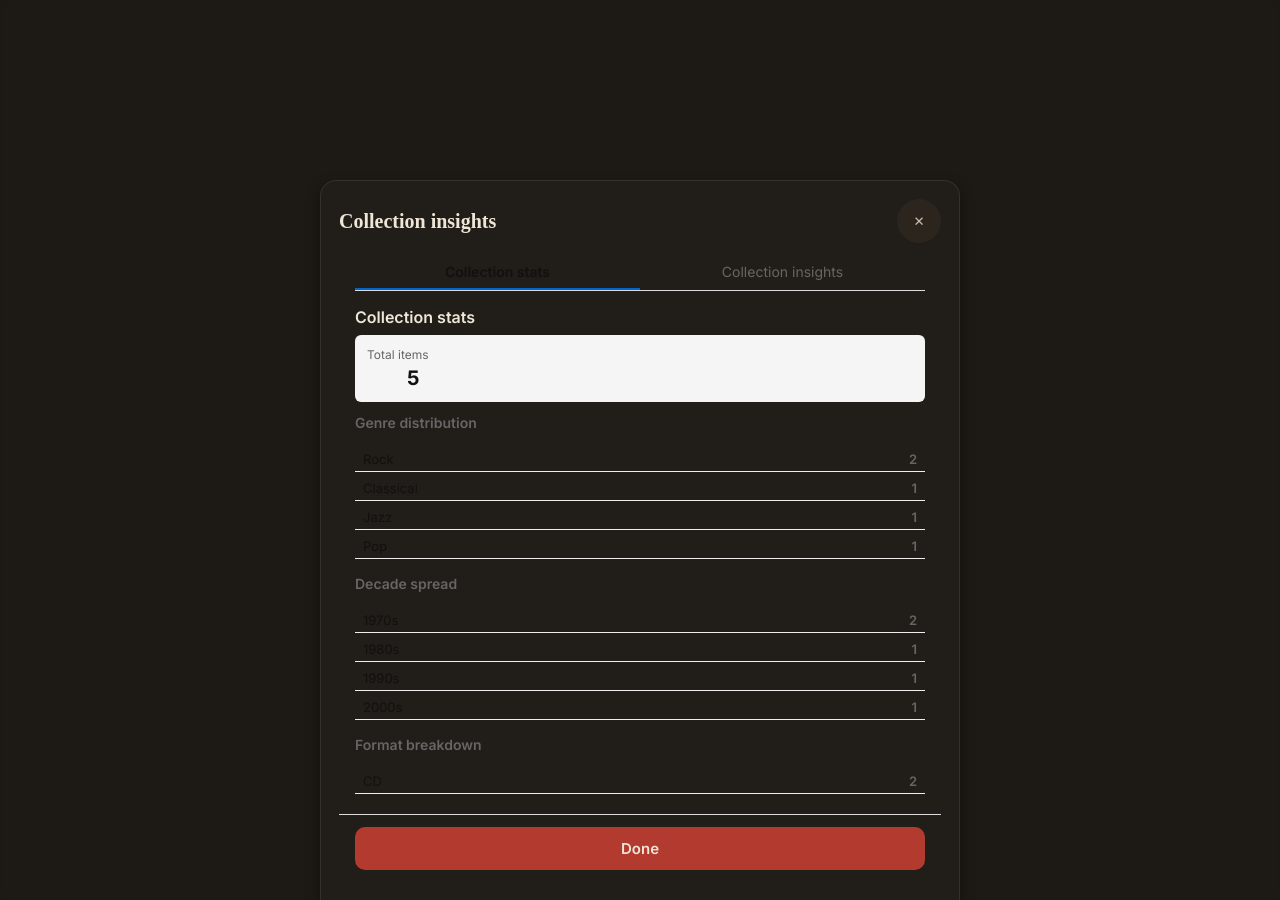
Test: InsightsDashboard — AI Insights tab › shows error state and retry button on failure
The image size is (1280, 900).
Click the tab "Collection insights" at x=782, y=272, box [640,255,925,290]
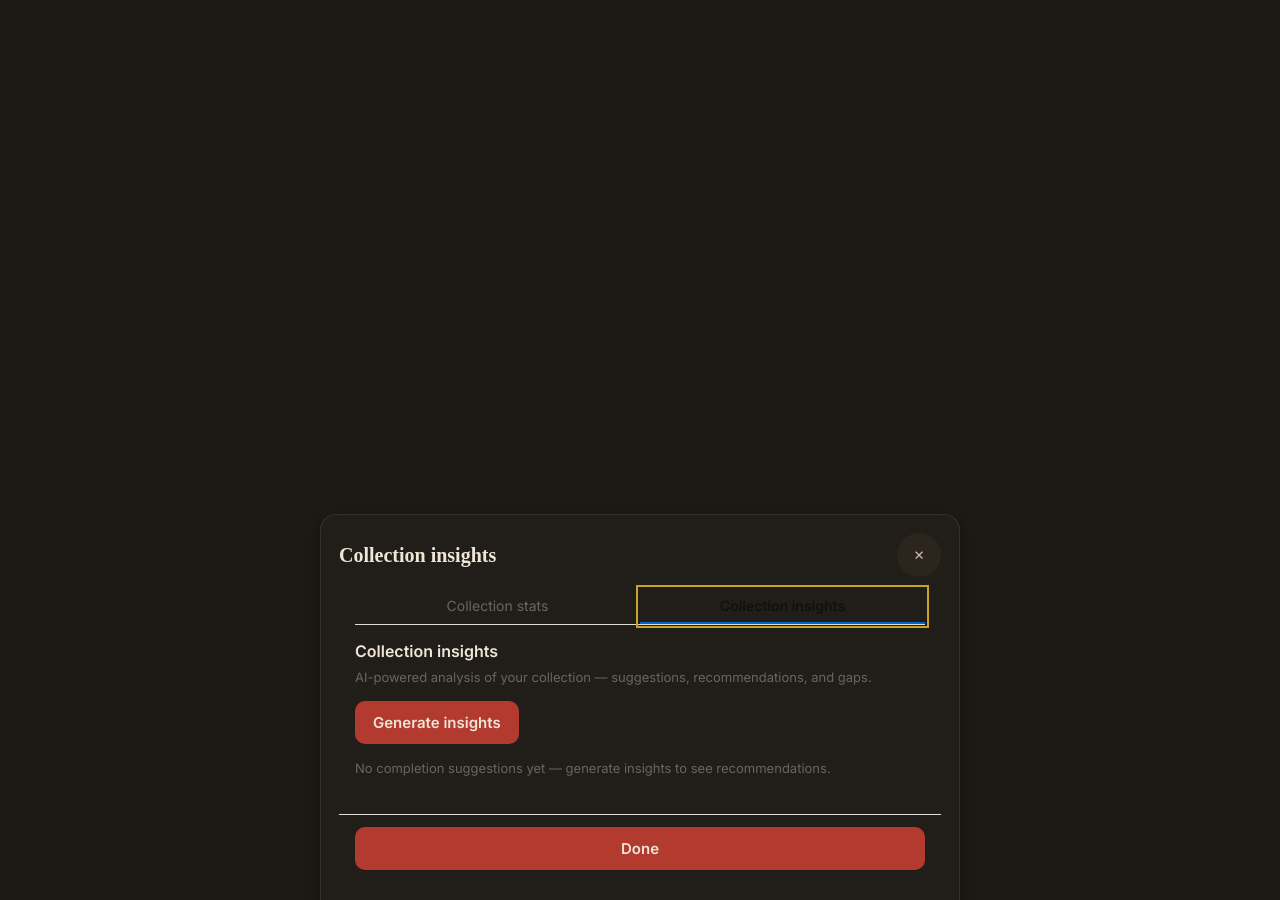
Click the button "Generate insights" at x=437, y=722, box [355,701,519,744]
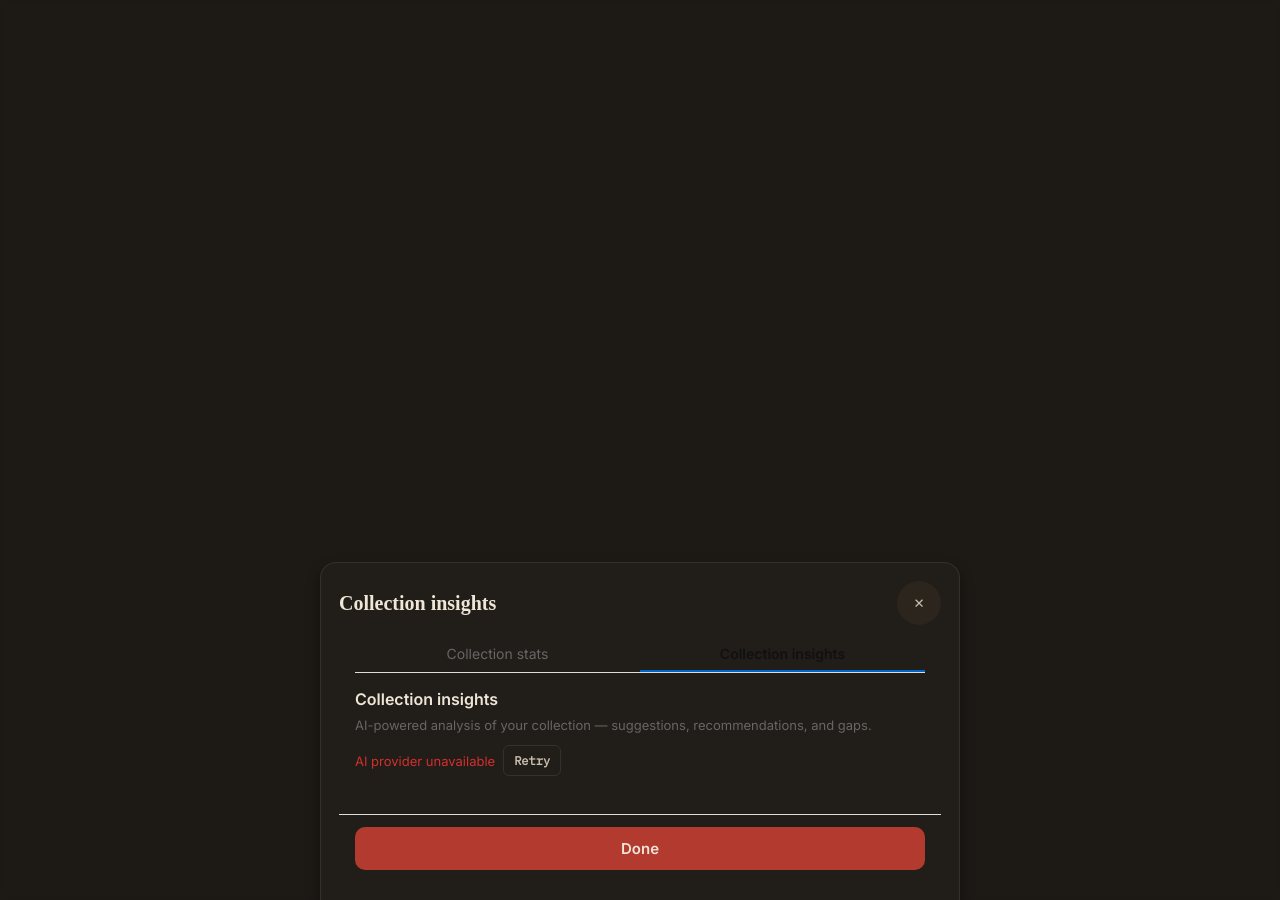
expect the text "AI provider unavailable" is shown: met, box [355,752,495,768]
expect the button "Retry" is shown: met, box [503,745,561,776]
